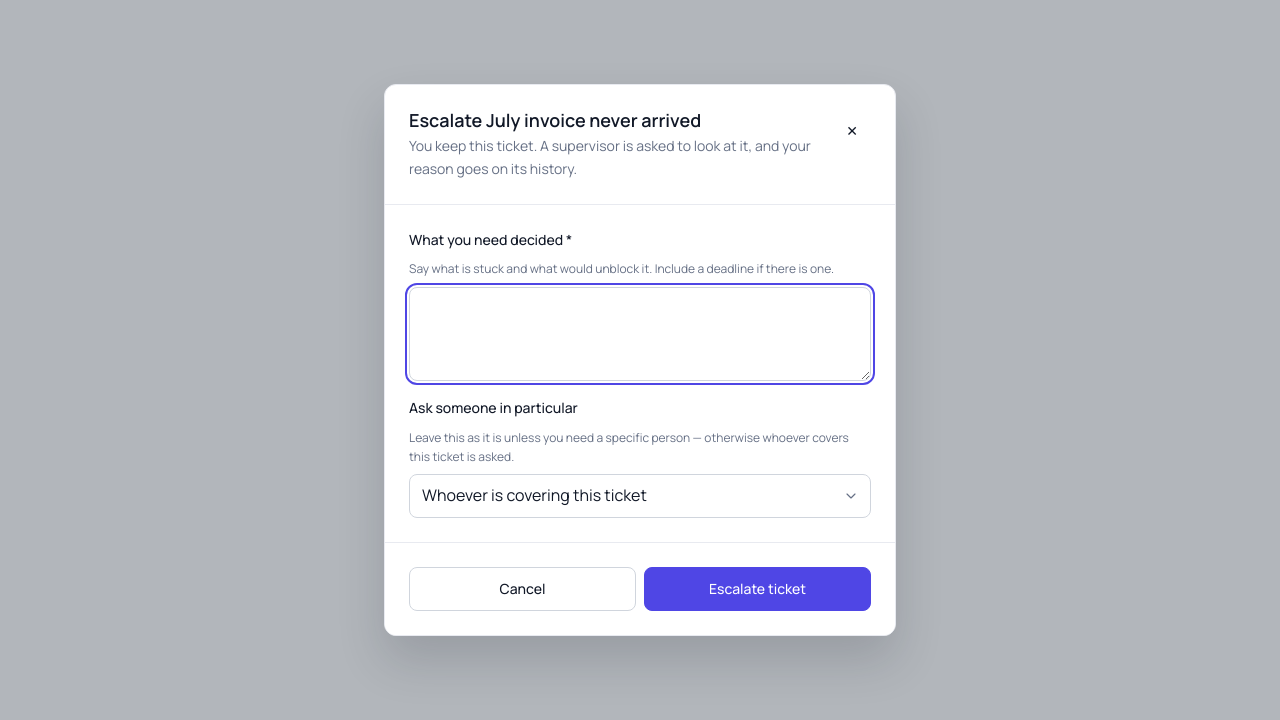
Scenario: the required reason › does not submit at all when the reason is empty
Click the button "Escalate ticket" at (758, 589), box [644,567,871,611]
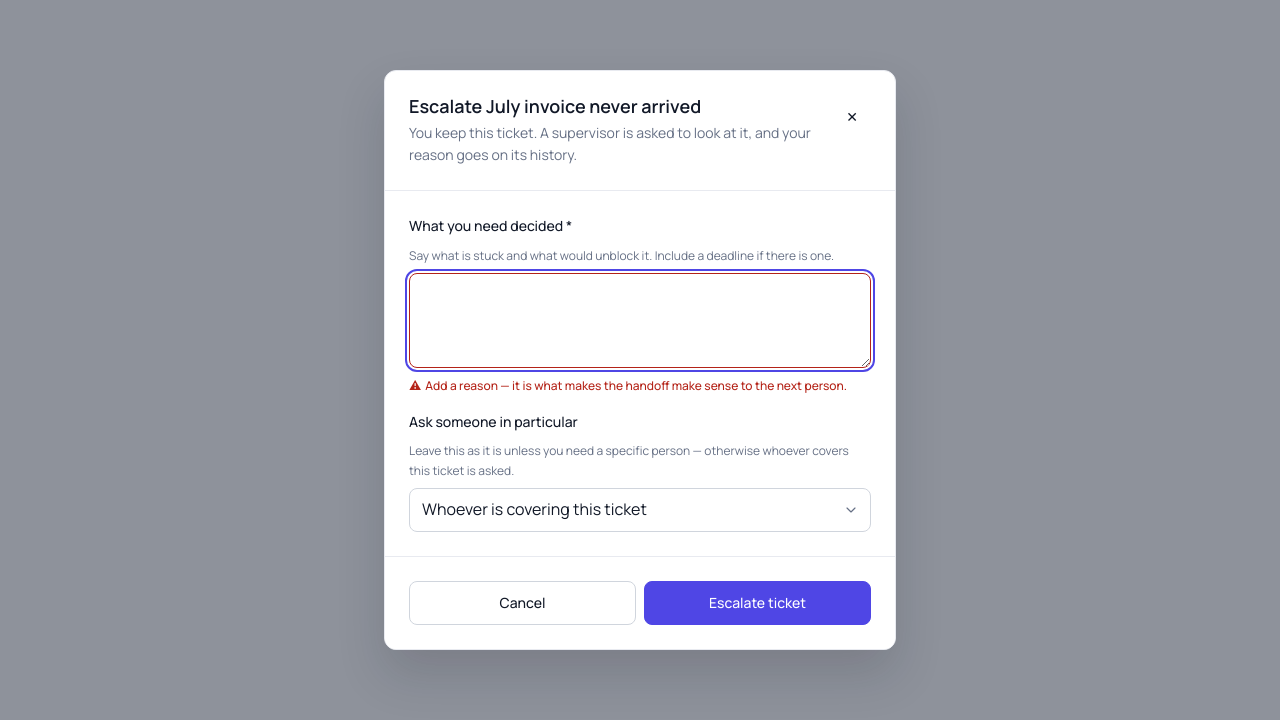
Result: the text "Add a reason — it is what makes the handoff make sense to the next person." is shown at [409,376,871,395]
